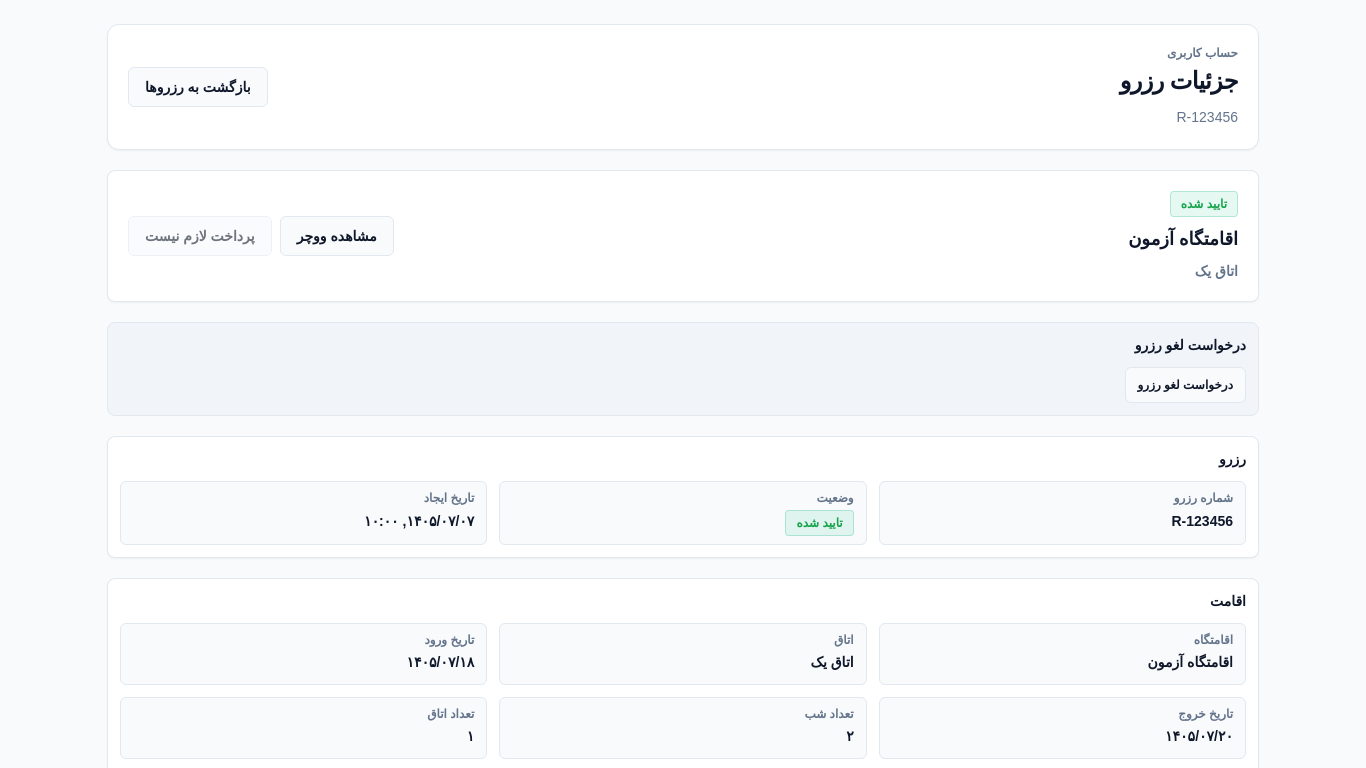
Scenario: Guest cancellation request in existing reservation details › treats GET 404 as no request and explains that submitting does not cancel the reservation
Click the button "درخواست لغو رزرو": [1185, 385] box [1125,367,1246,403]
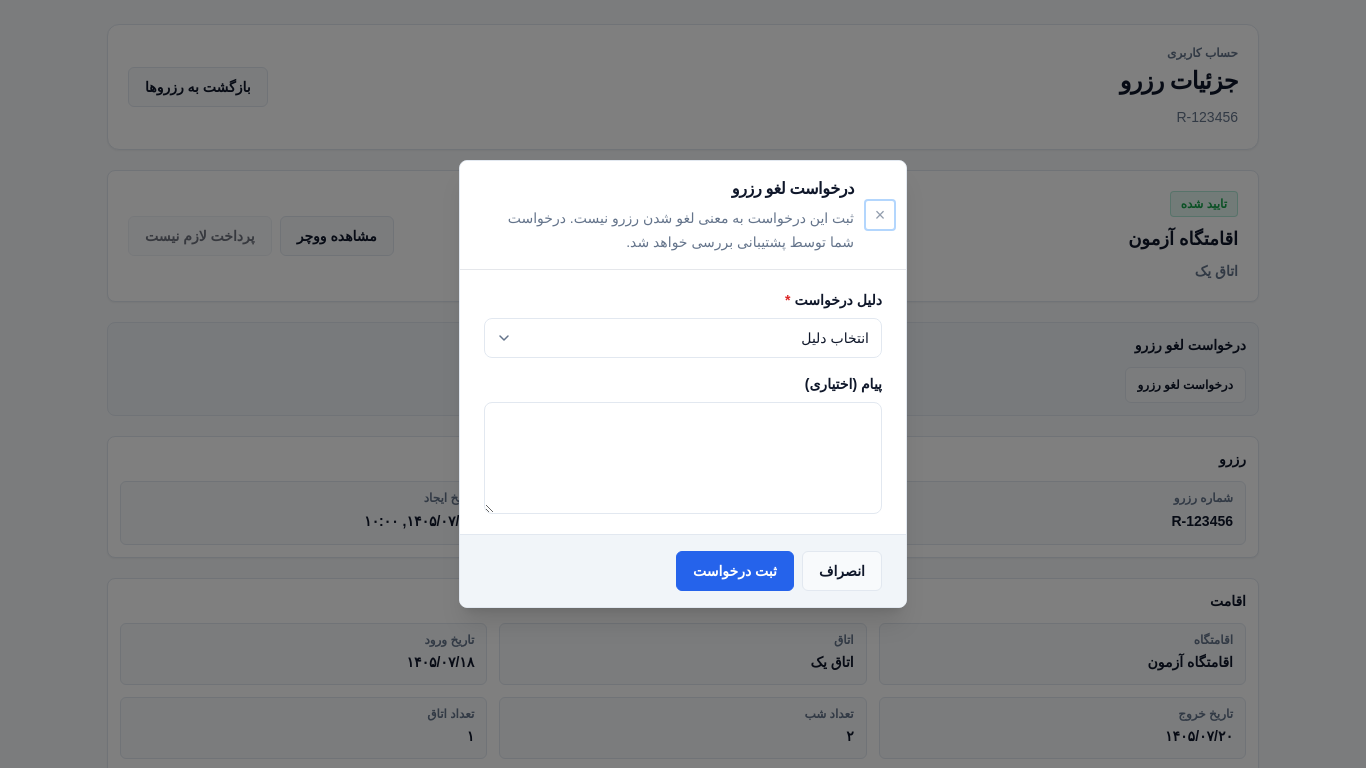
Expected: the text "تایید شده" is shown 2 times, [1170,191,1238,217]; [785,510,854,536]
Now the text "توسط پشتیبانی بررسی خواهد شد" is shown, box [508,210,854,250]
